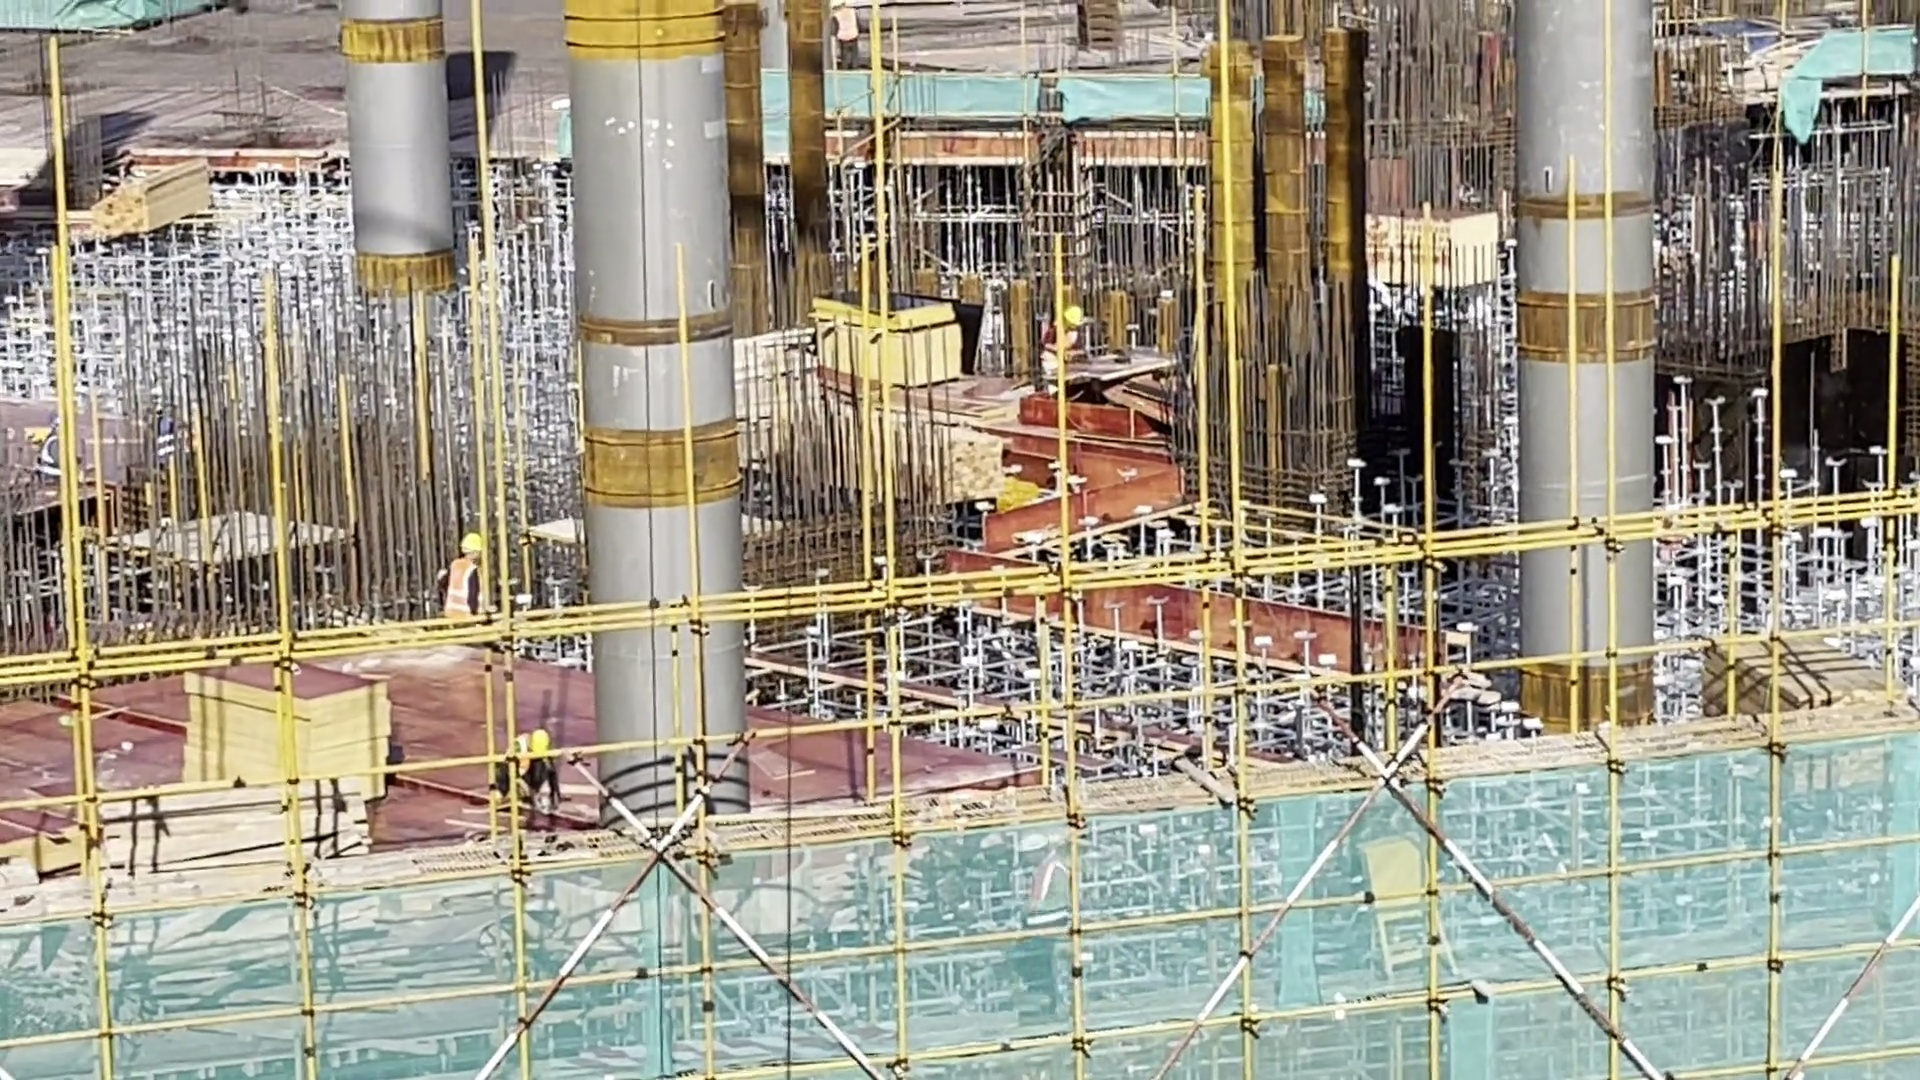helmet: (533, 728, 554, 754), (460, 534, 480, 554)
person: (436, 531, 500, 629), (505, 723, 555, 815)
vest: (449, 556, 485, 622)
